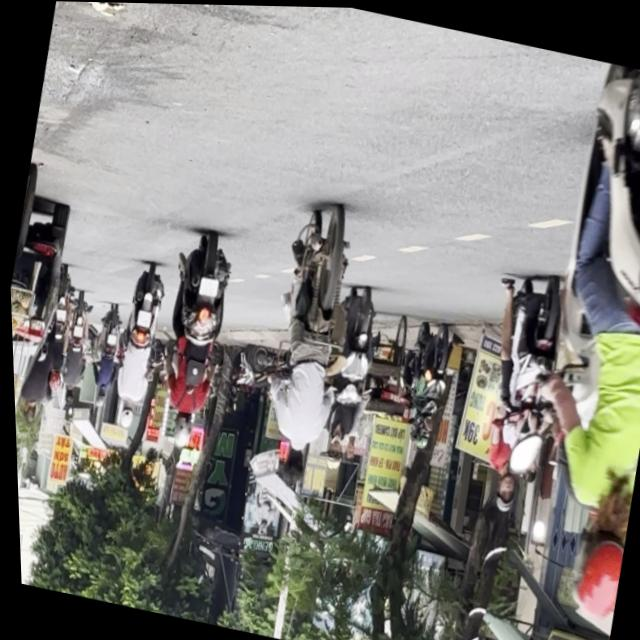helmet: (559, 504, 628, 623), (488, 468, 517, 514), (319, 429, 346, 472), (165, 409, 193, 450)
licenseplate: (484, 54, 640, 627), (241, 196, 373, 493), (459, 262, 583, 523), (140, 226, 246, 455), (308, 280, 390, 477)
motorcyclist: (274, 440, 308, 487)
nohelmet: (195, 275, 218, 299)
